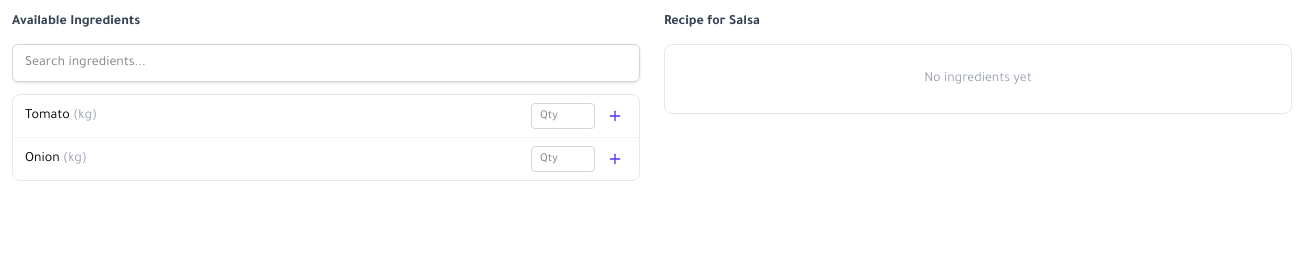
Test: RecipeBuilder › removes an ingredient from the pending list
Expected: the text "Tomato (kg)" is shown, [25,109,97,123]
Note: Add ingredient
Step 1. Click the button titled "Add to recipe" in the row of "Tomato" → (615, 116), box [603,104,627,128]
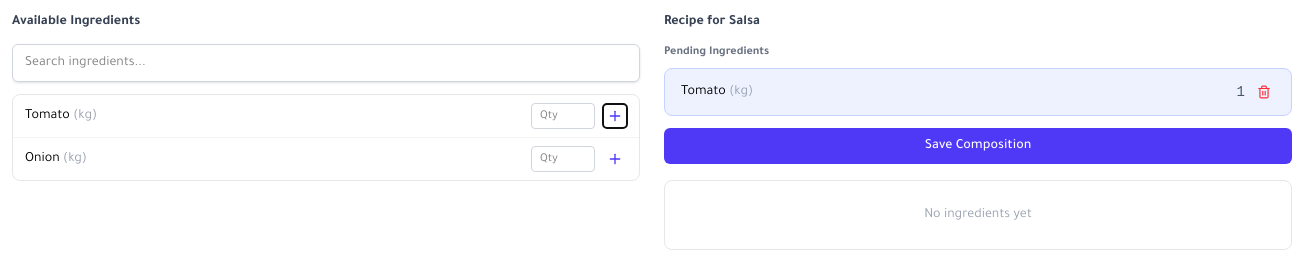
Expected: the button "Save Composition" is shown, [664,128,1292,164]
Note: Remove ingredient
Step 2. Click the button titled "Remove ingredient" → (1264, 92), box [1253,81,1275,103]
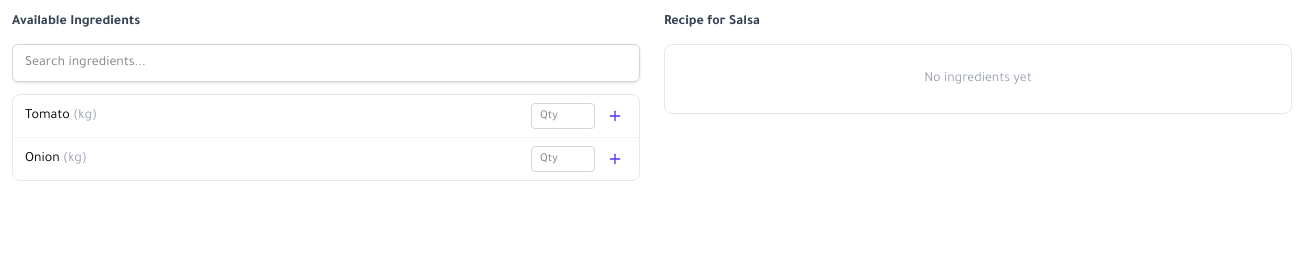
Expected: the button "Save Composition" is gone
